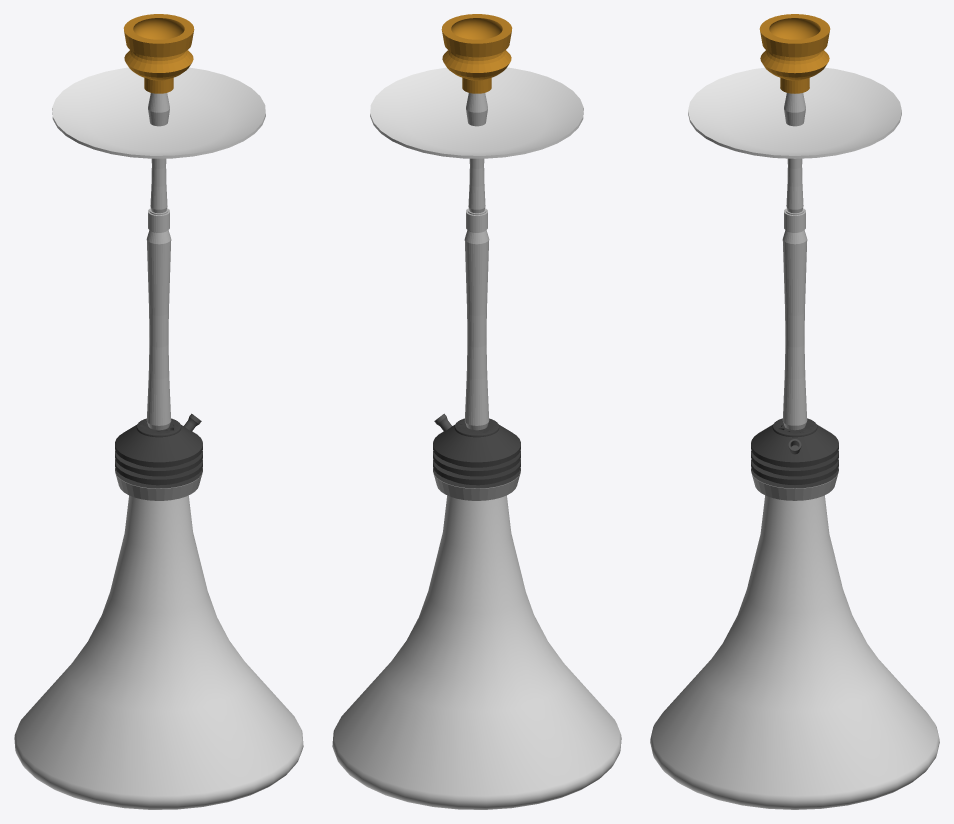
Rendered from Hookah_Level_3.fbx.
The picture shows the model from 3 angles, left to right: view 1: azimuth 30°, elevation 25°; view 2: azimuth 150°, elevation 25°; view 3: azimuth 270°, elevation 25°; orthographic projection.
Parts seen in each view (by area): view 1: Cam, Ana Hattı, Kömürlüğü; view 2: Cam, Ana Hattı, Kömürlüğü; view 3: Cam, Ana Hattı, Kömürlüğü.
Boxes of the visible parts, <box> form: Cam: <box>14,495,303,809</box>; Ana Hattı: <box>52,67,265,500</box>; Kömürlüğü: <box>123,14,194,93</box>; Cam: <box>332,495,621,809</box>; Ana Hattı: <box>370,67,583,500</box>; Kömürlüğü: <box>441,14,512,93</box>; Cam: <box>650,495,939,809</box>; Ana Hattı: <box>688,67,901,500</box>; Kömürlüğü: <box>759,14,830,93</box>.
Bounding box in the file's own units: 23.94 × 66.95 × 23.94.
